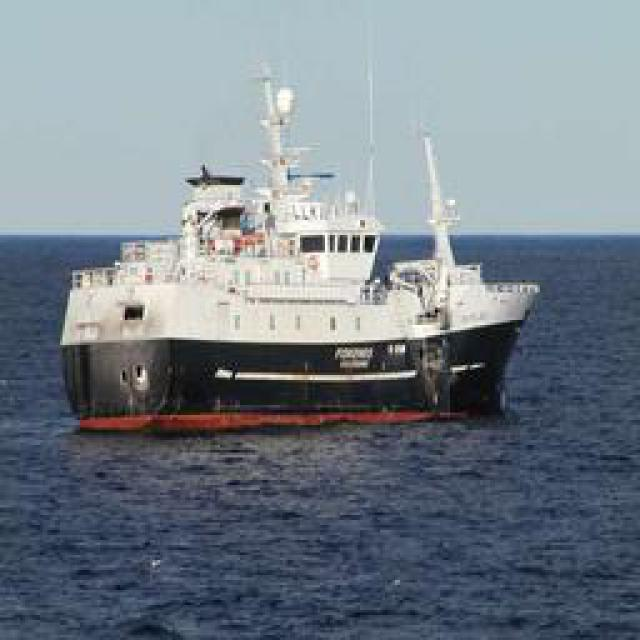Ship: (56, 47, 539, 425)
